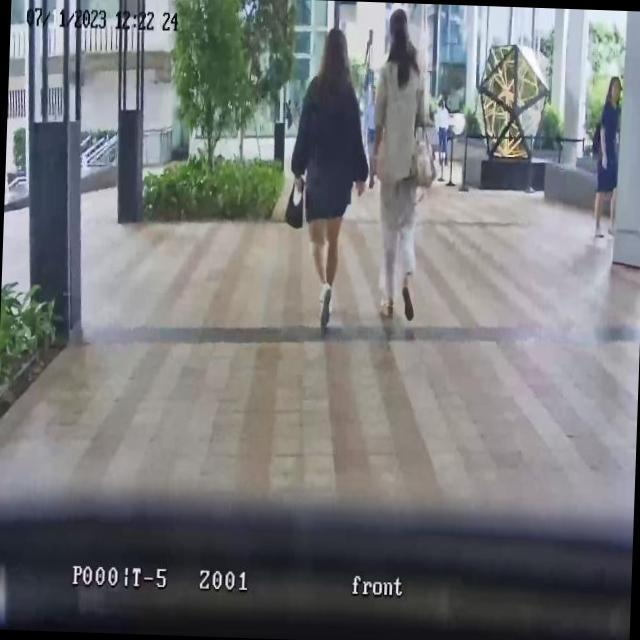person: (284, 24, 374, 336), (362, 6, 433, 322), (592, 74, 622, 240), (432, 94, 451, 180)
